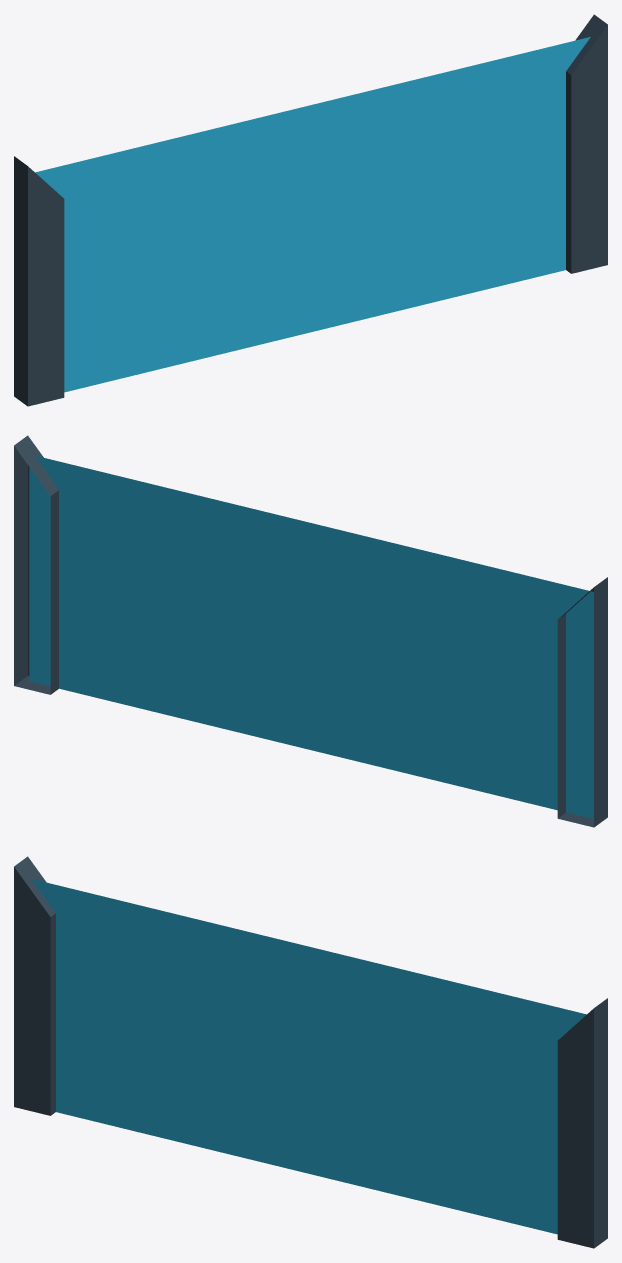
File: Bonus.fbx
3 views of the same model, one above another, from view 1: azimuth 30°, elevation 25°; view 2: azimuth 150°, elevation 25°; view 3: azimuth 330°, elevation 25° (orthographic).
Visible parts, largest first — view 1: Cube.011, Cube.010; view 2: Cube.011, Cube.010; view 3: Cube.011, Cube.010.
Part boxes in pixels (x1,y1,x2,y2): Cube.011: [35, 37, 590, 392]; Cube.010: [14, 14, 607, 406]; Cube.011: [29, 455, 593, 818]; Cube.010: [14, 435, 607, 827]; Cube.011: [31, 879, 586, 1234]; Cube.010: [14, 856, 607, 1248].
Bounding box in the file's own units: 16.76 × 6.64 × 0.694.
